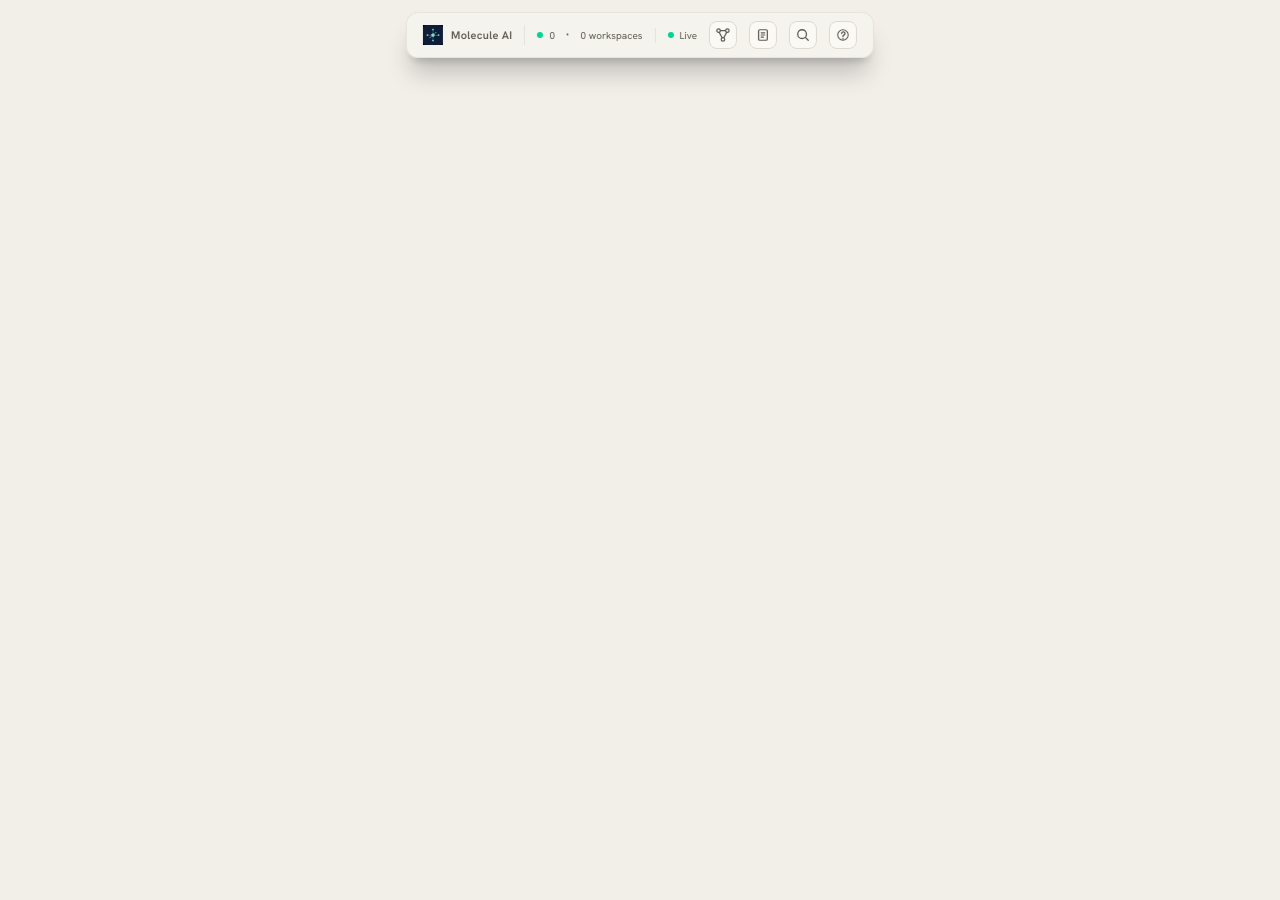
Test: Toolbar — Help popover › closes when close button is clicked
The image size is (1280, 900).
What coordinates should you click on to do the following:
click the button named "open shortcuts and tips"
I would click on:
 (843, 35)
Its box is left=829, top=21, right=857, bottom=49.
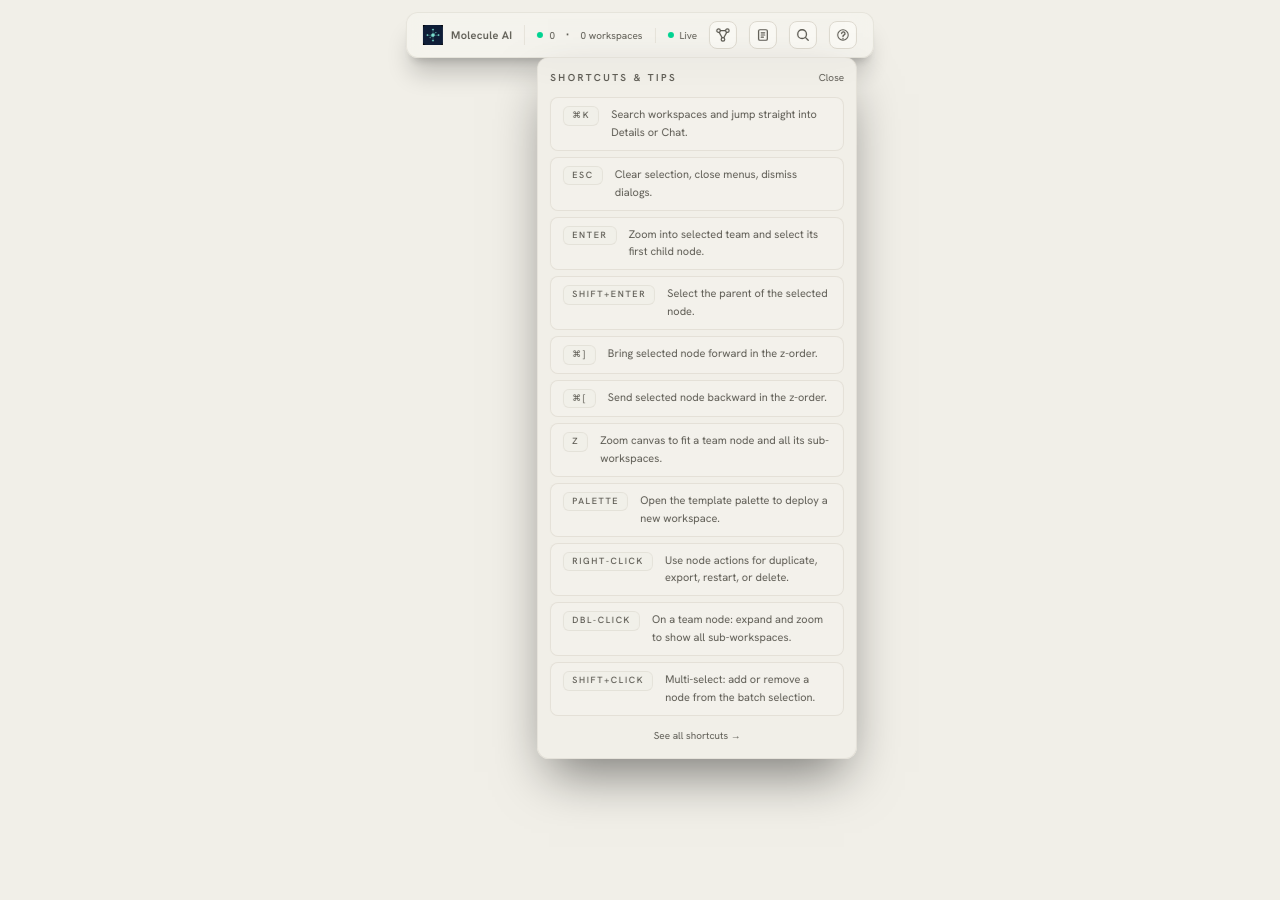
Expected: the dialog is shown, left=537, top=57, right=857, bottom=759
What coordinates should you click on to do the following:
click the button with aria-label "close help dialog"
I would click on:
 (831, 78)
Its box is left=819, top=70, right=844, bottom=85.
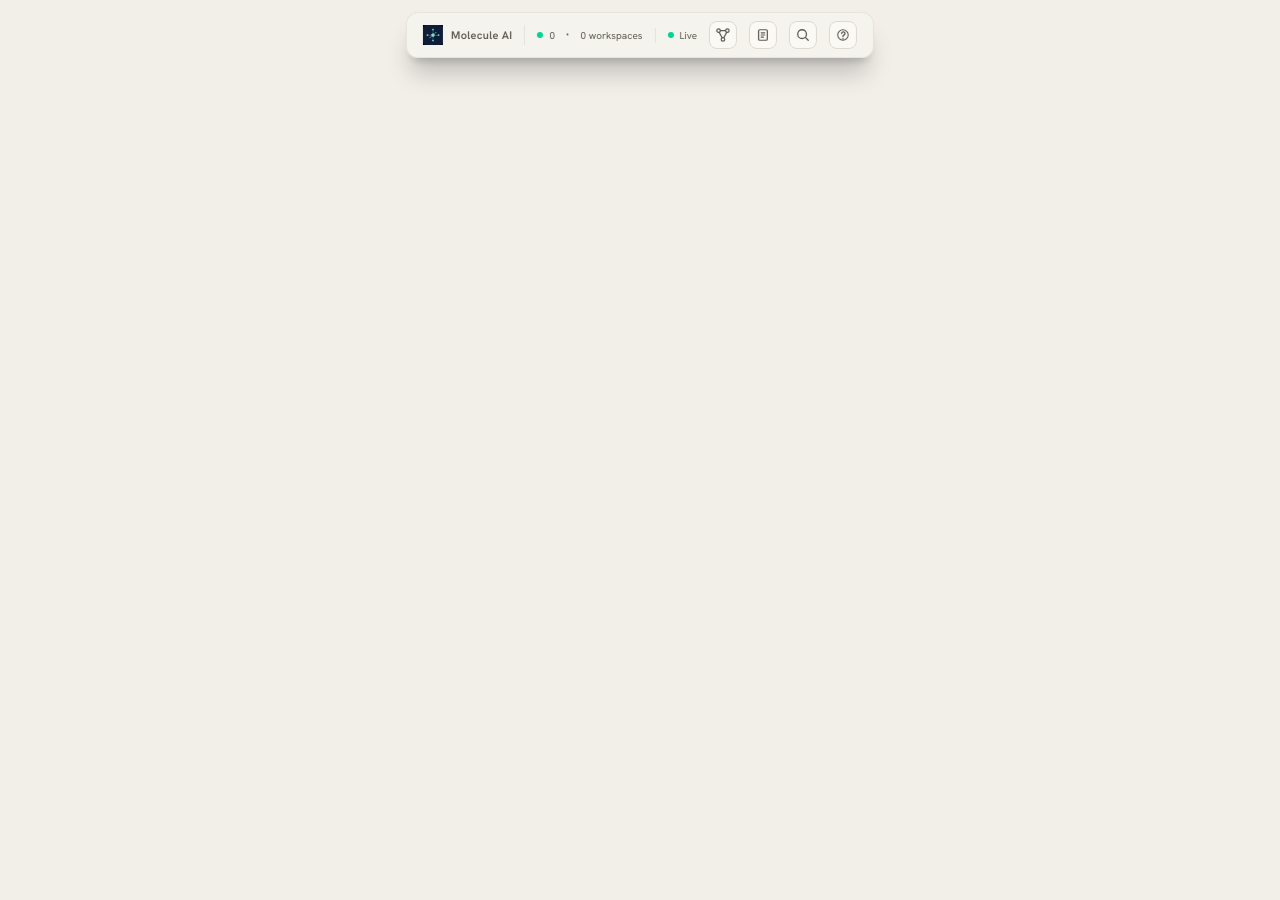
Expected: the dialog is gone
